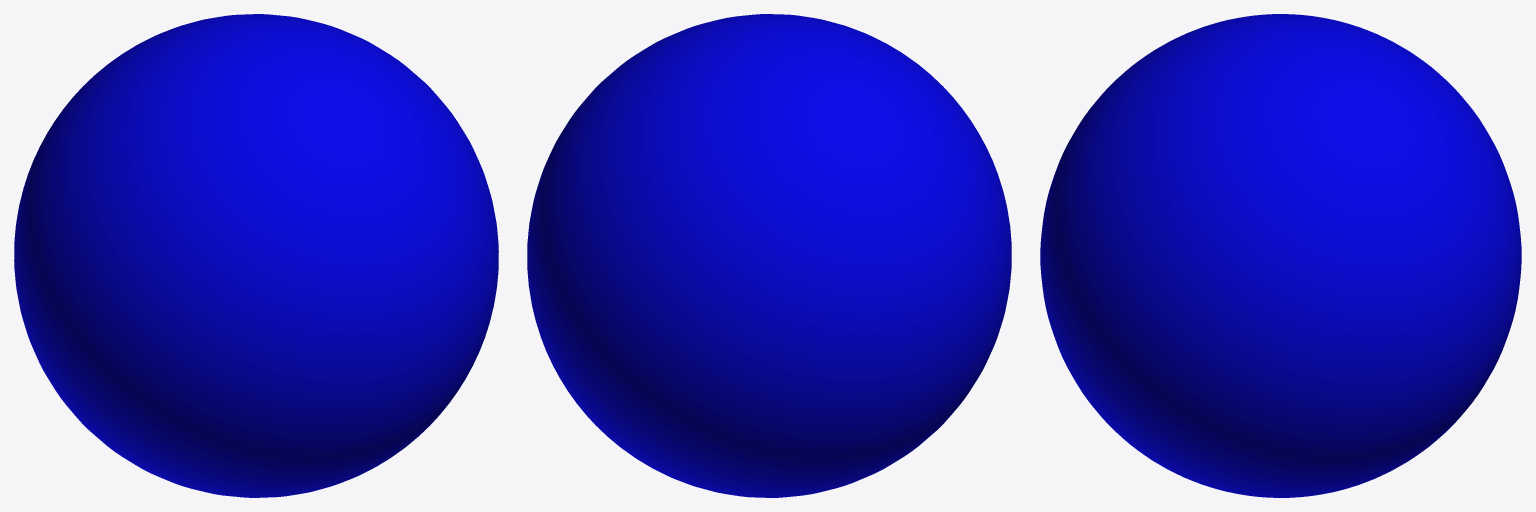
The model's file is PelotaIzqHidro.fbx.
3 renders of one model, left to right at view 1: azimuth 30°, elevation 25°; view 2: azimuth 150°, elevation 25°; view 3: azimuth 270°, elevation 25°, orthographic.
Parts seen in each view (by area): view 1: Mesh.001; view 2: Mesh.001; view 3: Mesh.001.
Boxes of the visible parts, box(x1,y1,x2,y2) form: Mesh.001: box(14, 14, 498, 497); Mesh.001: box(527, 14, 1011, 497); Mesh.001: box(1040, 14, 1521, 497).
Bounding box in the file's own units: 282 × 281 × 281.
